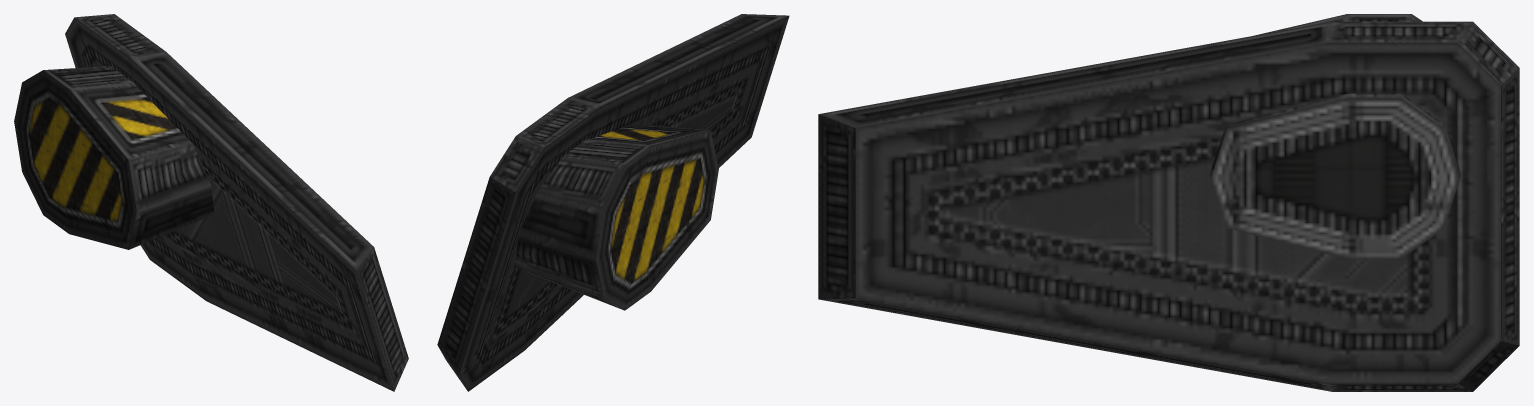
The model's file is BFP_ConstFrwrdHullFin01_L.FBX.
3 views of the same model, side by side, from view 1: azimuth 30°, elevation 25°; view 2: azimuth 150°, elevation 25°; view 3: azimuth 270°, elevation 25° (orthographic). The views are drawn at different scales.
Parts seen in each view (by area): view 1: BFP_ConstFrwrdHullFin01_L; view 2: BFP_ConstFrwrdHullFin01_L; view 3: BFP_ConstFrwrdHullFin01_L.
Part boxes in pixels (x1=…): BFP_ConstFrwrdHullFin01_L: x1=14, y1=14, x2=408, y2=391; BFP_ConstFrwrdHullFin01_L: x1=437, y1=14, x2=789, y2=391; BFP_ConstFrwrdHullFin01_L: x1=818, y1=14, x2=1519, y2=391.
Bounding box in the file's own units: 48.98 × 76.56 × 150.
1 material, 1 textured.
